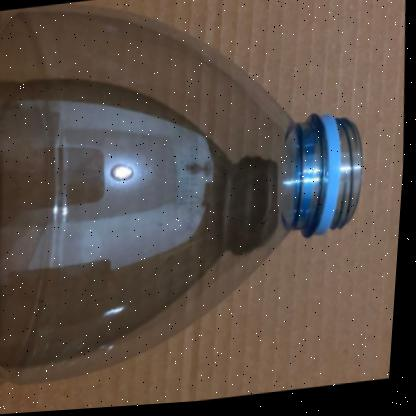open bottle: (69, 1, 415, 403)
